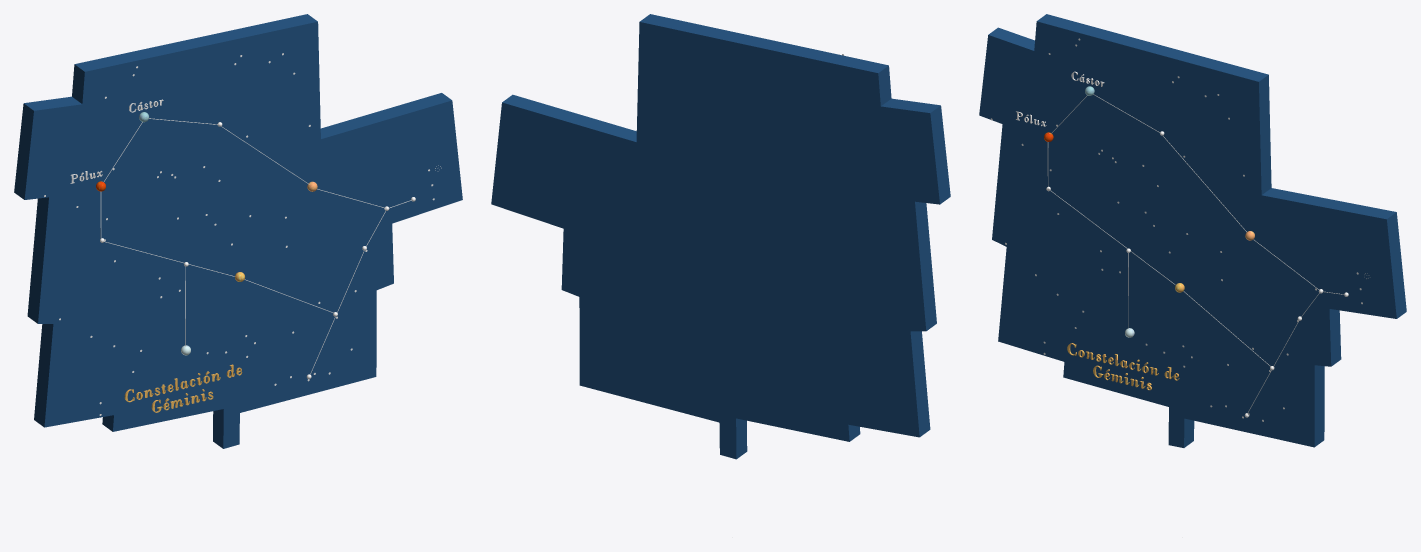
3 renders of one model, left to right at view 1: azimuth 30°, elevation 25°; view 2: azimuth 150°, elevation 25°; view 3: azimuth 330°, elevation 25°, orthographic. The views are drawn at different scales.
Visible parts, largest first — view 1: Cubo, Texto.009; view 2: Cubo; view 3: Cubo, Texto.009.
Boxes of the visible parts, x1,y1,x2,y2 form: Cubo: (14,14,462,448); Texto.009: (124,364,242,402); Cubo: (491,14,950,459); Cubo: (979,14,1406,447); Texto.009: (1067,343,1179,380).
Size of the model in its own units: 21.53 by 23.56 by 1.32.
Materials: 7 (5 with a texture image).
